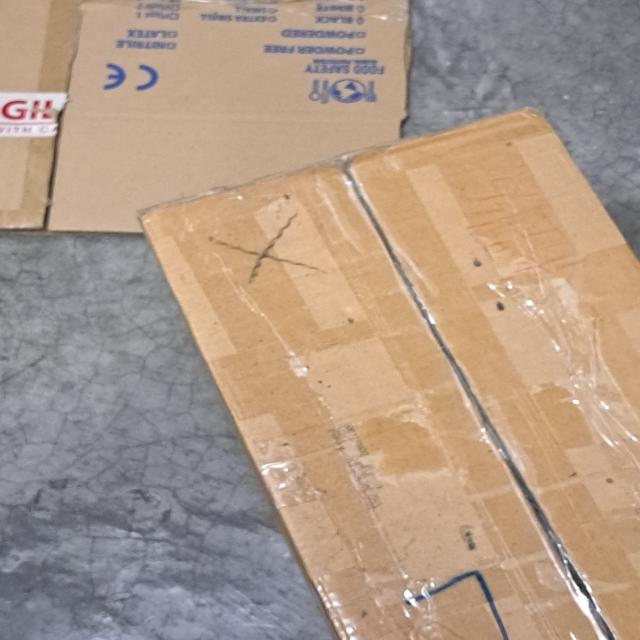cardboard: (139, 108, 640, 640), (0, 0, 408, 233)
